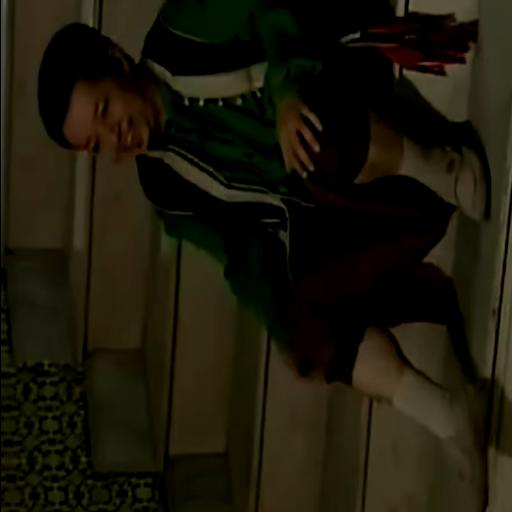fouchika: (61, 45, 159, 161)
